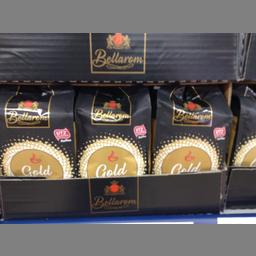coffee: (74, 86, 150, 180), (0, 86, 77, 177), (151, 86, 230, 170)
